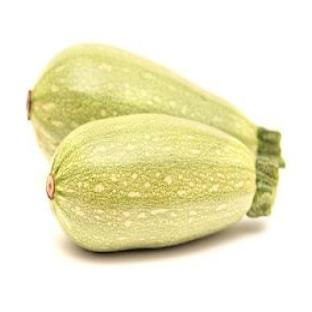Zucchini: (46, 114, 278, 250), (28, 45, 283, 165)
